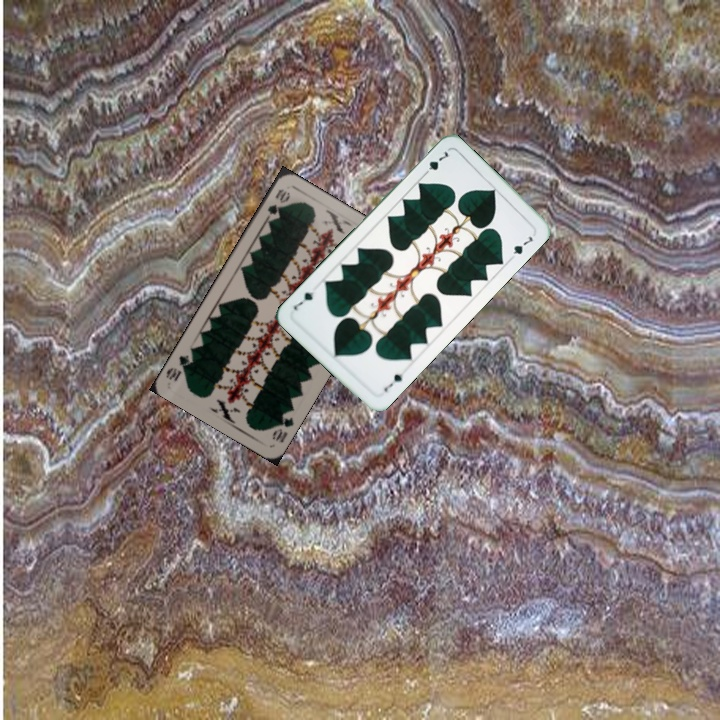G10: (262, 184, 292, 222), (268, 407, 296, 445)
G7: (419, 147, 451, 179), (380, 370, 405, 394)
